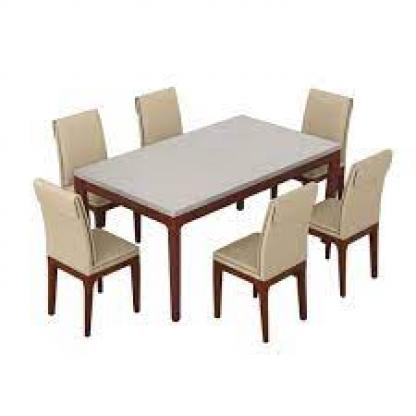Dining Table: (20, 82, 398, 346)
